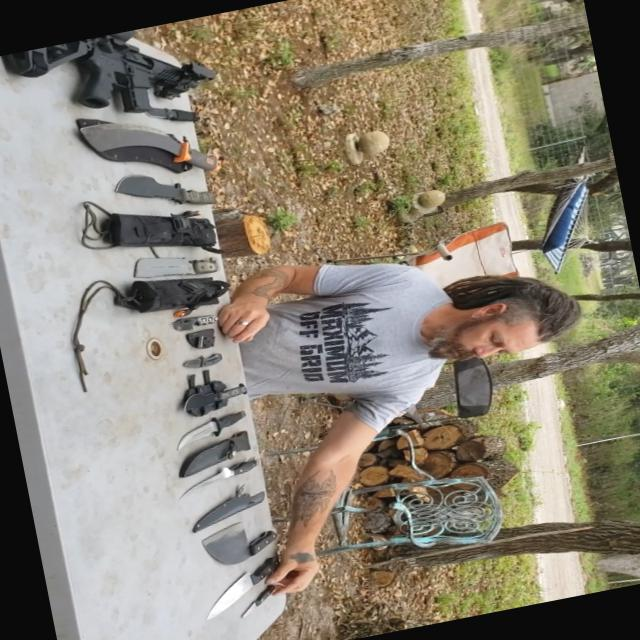knife: (62, 92, 235, 201), (104, 152, 230, 228), (192, 548, 308, 624), (162, 450, 274, 510), (126, 238, 235, 299), (190, 511, 288, 574), (168, 406, 258, 452), (170, 378, 264, 418), (141, 91, 219, 135), (234, 577, 296, 621), (156, 307, 232, 338), (166, 348, 238, 377)
long weapon: (4, 13, 240, 152)
